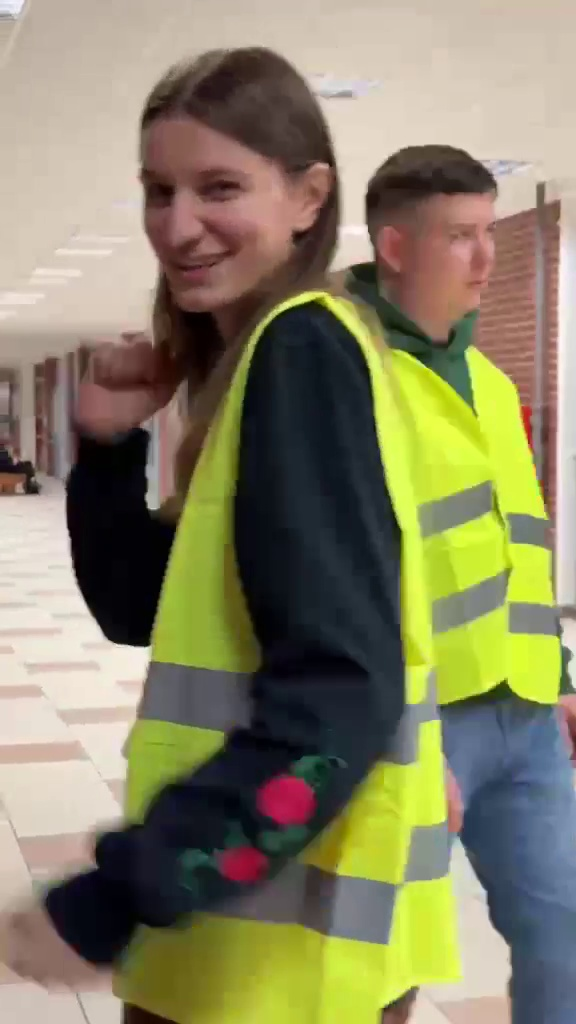vest: (113, 46, 414, 992), (372, 128, 573, 992)
